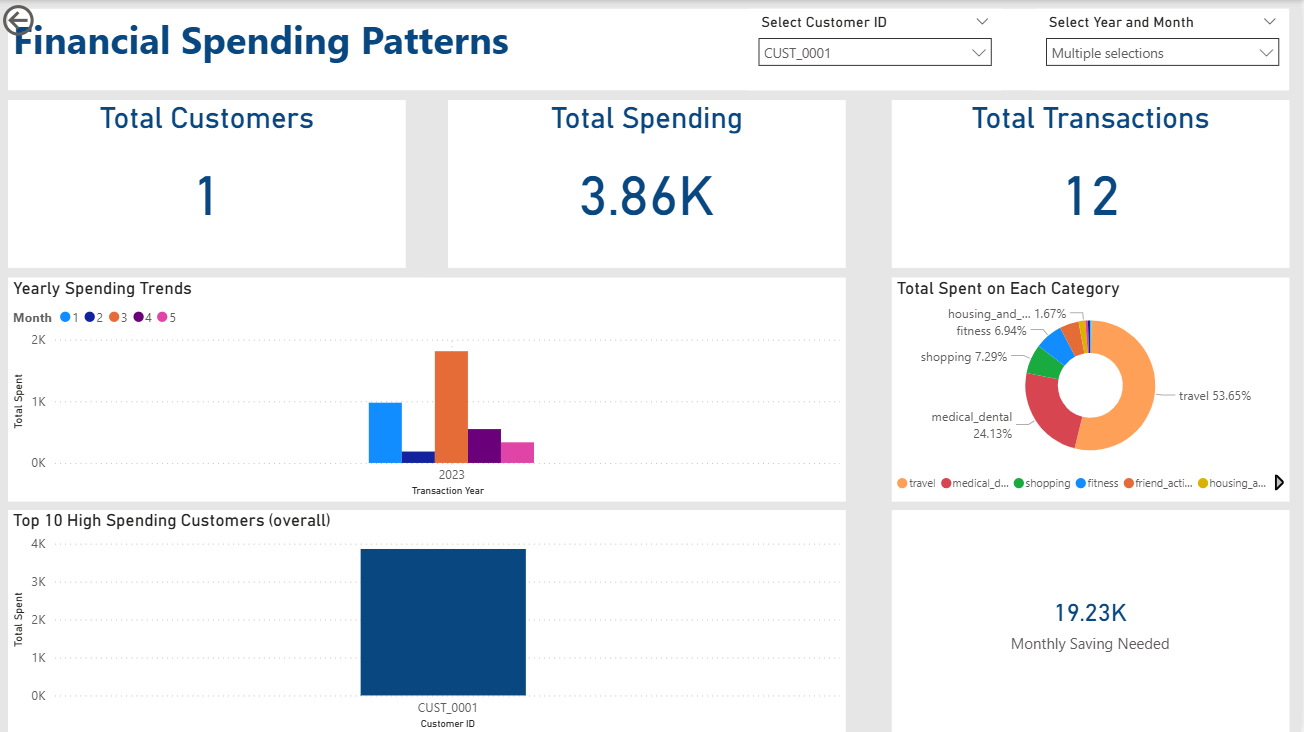

The page's visual inventory and layout, read from the dashboard file:
{"tool":"powerbi","page":{"name":"Page 1","canvas":[1280,720],"ordinal":0},"visuals":[{"type":"textbox","box":[9.8,8.6,1257.7,79.8],"z":0},{"type":"slicer","fields":{"Values":["customer_spending_db vw_financial_dashboard.transaction_date.Variation.Date Hierarchy.Year","customer_spending_db vw_financial_dashboard.transaction_date.Variation.Date Hierarchy.Month"]},"box":[1018.4,8.6,249.1,79.8],"z":1000},{"type":"slicer","fields":{"Values":["customer_spending_db vw_financial_dashboard.customer_id"]},"box":[736.2,8.6,249.1,79.8],"z":2000},{"type":"card","title":"Total Customers","fields":{"Values":["Count(customer_spending_db vw_financial_dashboard.customer_id)"]},"box":[9.8,98.2,390.2,164.4],"z":3000},{"type":"card","title":"Total Spending","fields":{"Values":["Sum(customer_spending_db vw_financial_dashboard.total_spent)"]},"box":[441.8,98.2,390,164.4],"z":4000},{"type":"card","title":"Total Transactions","fields":{"Values":["CountNonNull(customer_spending_db vw_financial_dashboard.transaction_date)"]},"box":[877.3,98.2,390.2,164.4],"z":5000},{"type":"clusteredColumnChart","title":"Yearly Spending Trends","fields":{"Y":["Sum(customer_spending_db vw_financial_dashboard.total_spent)"],"Category":["customer_spending_db vw_financial_dashboard.transaction_year"],"Series":["customer_spending_db vw_financial_dashboard.transaction_month"]},"box":[9.8,272.4,822.1,219.6],"z":6000},{"type":"actionButton","box":[0,0,100,40],"z":6001},{"type":"clusteredColumnChart","title":"Top 10 High Spending Customers (overall)","fields":{"Y":["Sum(customer_spending_db vw_financial_dashboard.total_spent)"],"Category":["customer_spending_db vw_financial_dashboard.customer_id"]},"box":[9.8,500.6,822.1,219.6],"z":6002},{"type":"donutChart","title":"Total Spent on Each Category","fields":{"Category":["customer_spending_db vw_financial_dashboard.category"],"Y":["Sum(customer_spending_db vw_financial_dashboard.total_spent)"]},"box":[877.3,272.4,390.2,219.6],"z":6003},{"type":"card","fields":{"Values":["Goal Amount.Monthly Saving Needed"]},"box":[877,501,390,219],"z":6004}]}

Visuals, with their boxes in screenshot pixels (x1, y1, x2, y2), scaled from the page's 1280x720 canvas onto the 1304x732 screenshot:
textbox: [10,9,1291,90]
slicer - customer_spending_db vw_financial_dashboard.transaction_date.Variation.Date Hierarchy.Year x customer_spending_db vw_financial_dashboard.transaction_date.Variation.Date Hierarchy.Month: [1037,9,1291,90]
slicer - customer_spending_db vw_financial_dashboard.customer_id: [750,9,1004,90]
"Total Customers" card: [10,100,408,267]
"Total Spending" card: [450,100,847,267]
"Total Transactions" card: [894,100,1291,267]
"Yearly Spending Trends" clusteredColumnChart: [10,277,847,500]
actionButton: [0,0,102,41]
"Top 10 High Spending Customers (overall)" clusteredColumnChart: [10,509,847,731]
"Total Spent on Each Category" donutChart: [894,277,1291,500]
card - Goal Amount.Monthly Saving Needed: [893,509,1291,731]
